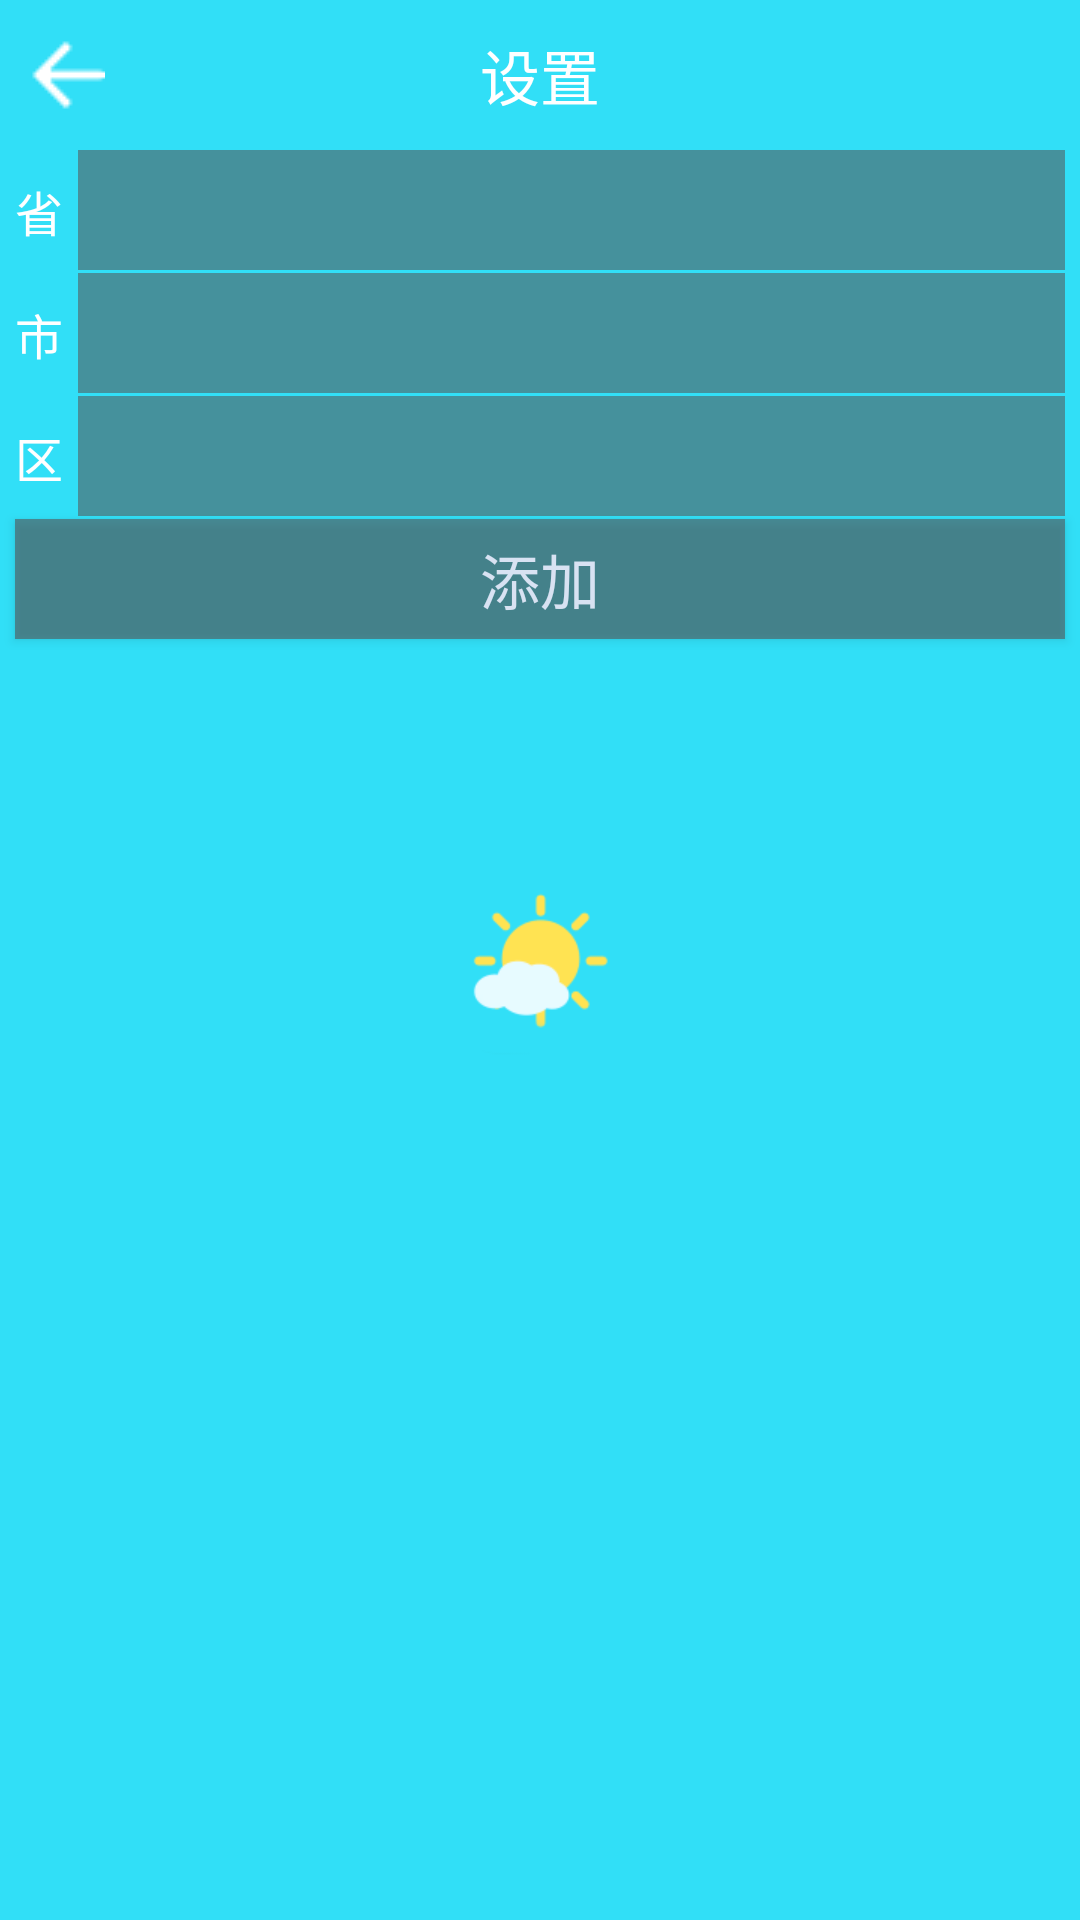

Where to tap for icons on this 1080px x 1920px app screen, as (x,y):
turnback: (68,75)
